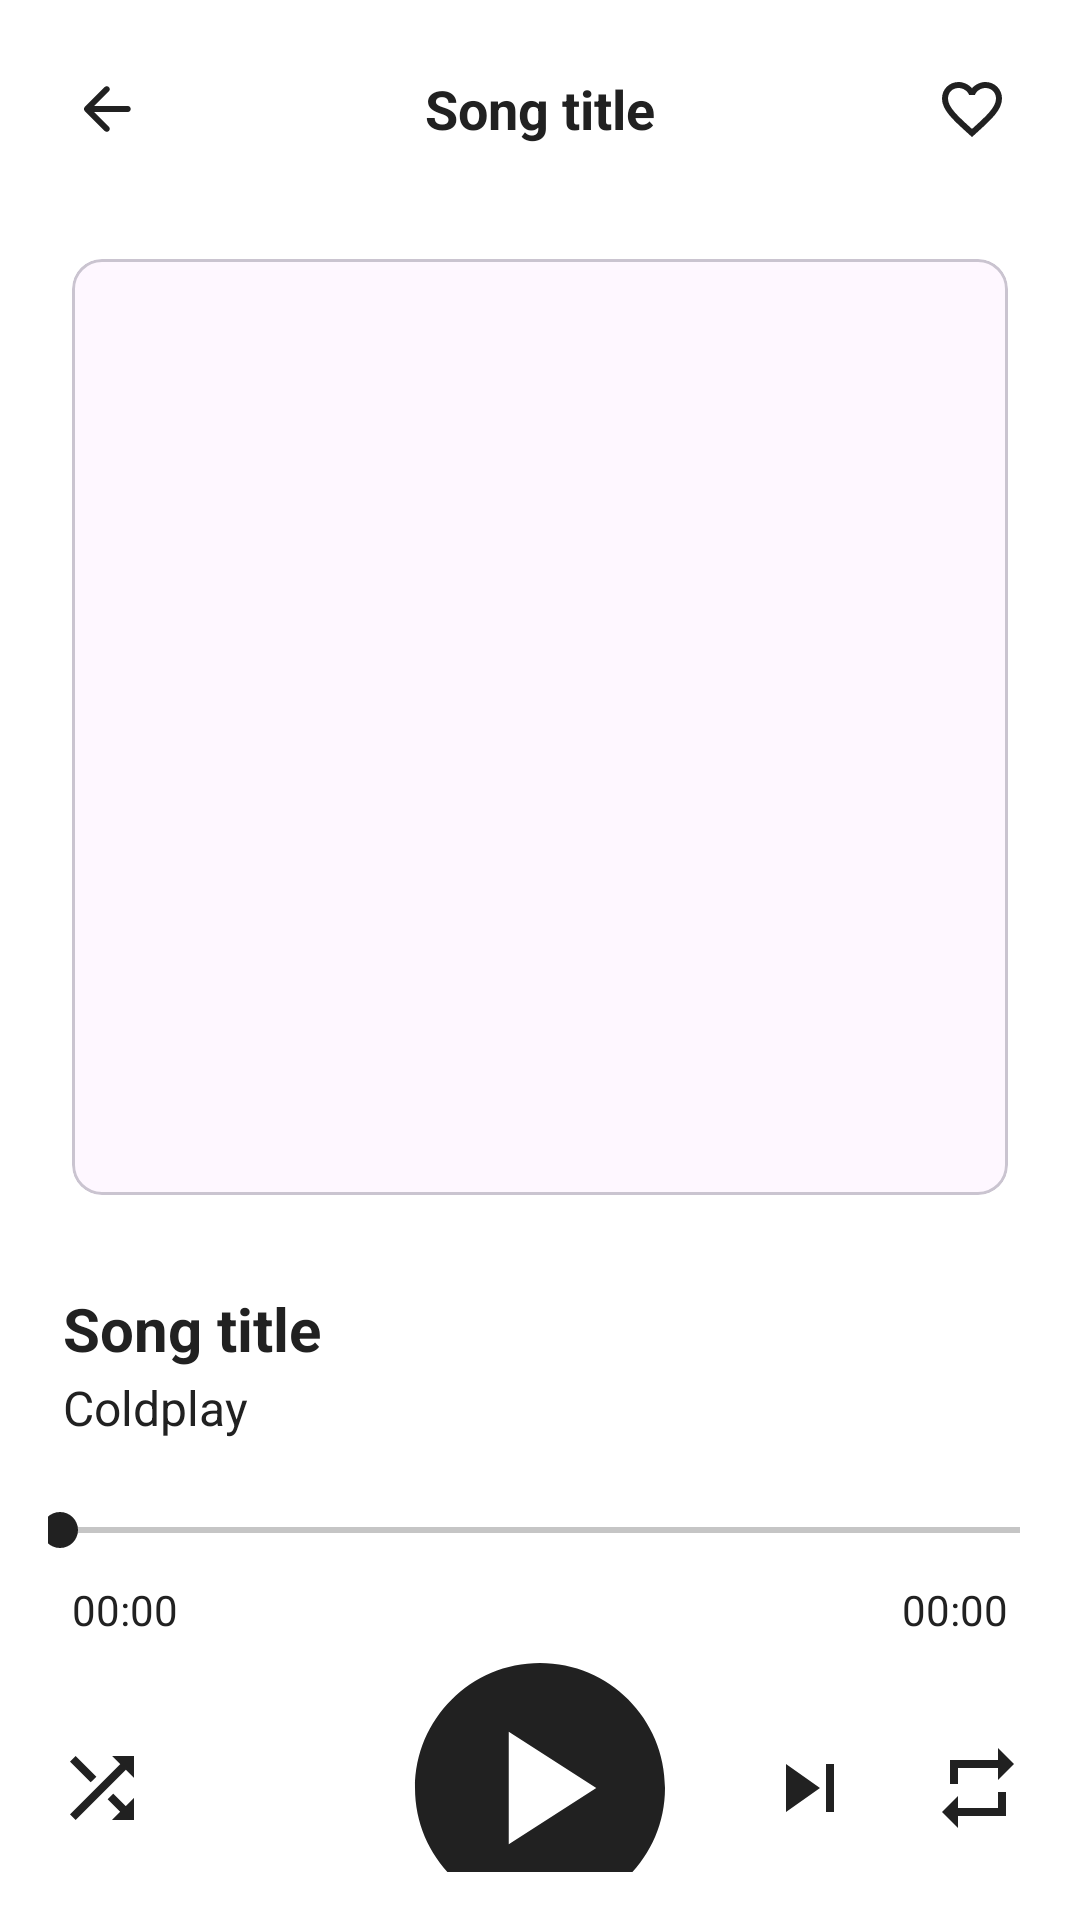

Screen size 1080w x 1920h. Icon name, then its box in pixels as (x1, y1, x2, y2):
arrow back: (84, 86, 131, 132)
favorite empty: (942, 82, 1002, 137)
next: (786, 1764, 834, 1812)
play: (415, 1663, 665, 1872)
repeat state: (942, 1748, 1014, 1828)
shuffle state: (70, 1756, 134, 1820)
